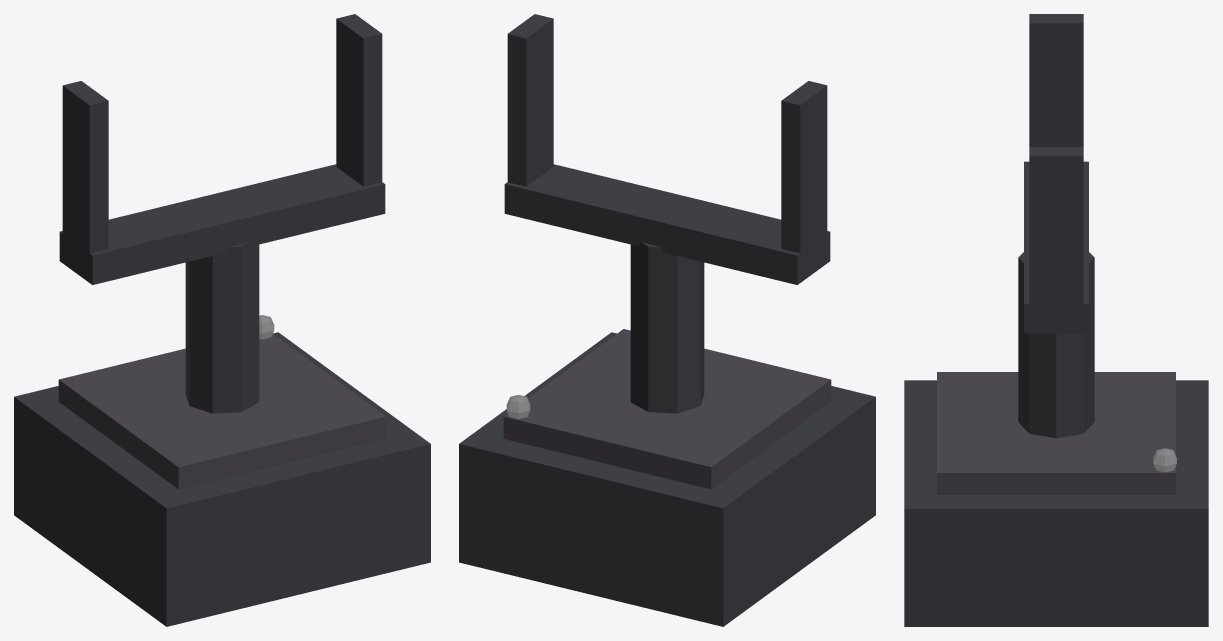
Rendered from spot_base.glb.
3 views of the same model, side by side, from view 1: azimuth 30°, elevation 25°; view 2: azimuth 150°, elevation 25°; view 3: azimuth 270°, elevation 25° (orthographic).
Parts seen in each view (by area): view 1: spot_base; view 2: spot_base; view 3: spot_base.
Part boxes in pixels (x1,y1,x2,y2): spot_base: (14, 14, 430, 626); spot_base: (459, 14, 875, 626); spot_base: (904, 14, 1208, 626).
Bounding box in the file's own units: 0.62 × 0.97 × 0.56.
3 materials, 1 textured.
